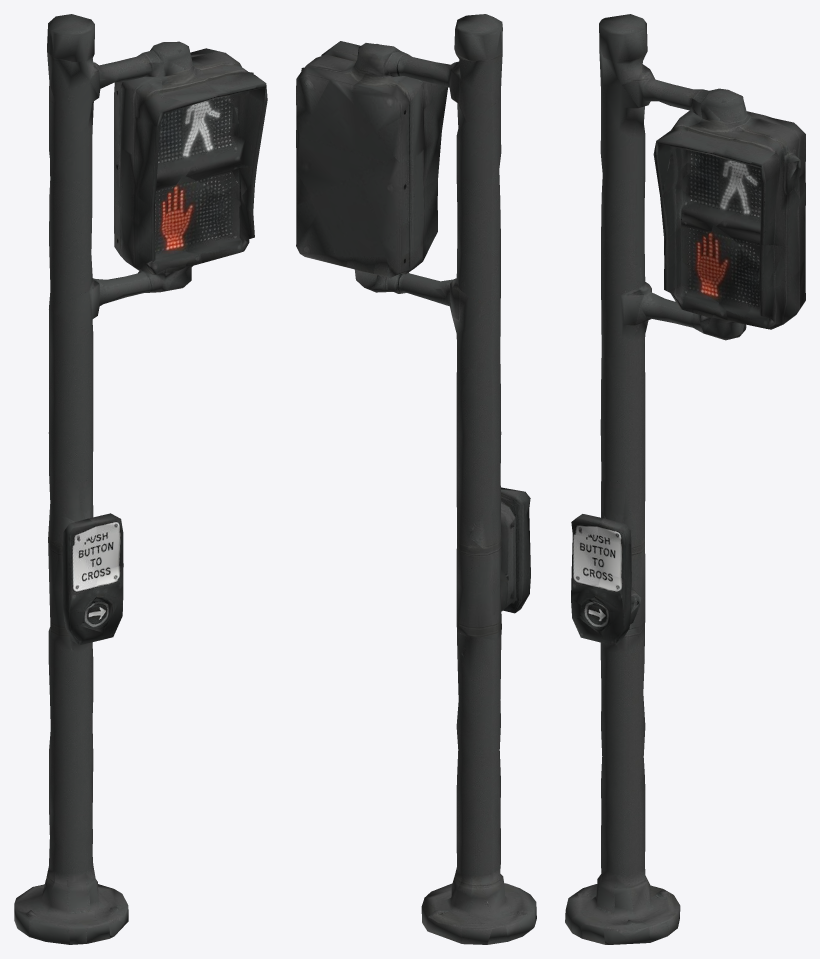
Rendered from psignal_lod1.glb.
The picture shows the model from 3 angles, left to right: view 1: azimuth 30°, elevation 25°; view 2: azimuth 150°, elevation 25°; view 3: azimuth 330°, elevation 25°; orthographic projection.
Visible parts, largest first — view 1: mesh_node; view 2: mesh_node; view 3: mesh_node.
Boxes of the visible parts, box(x1,y1,x2,y2) form: mesh_node: box(14, 14, 267, 944); mesh_node: box(296, 14, 536, 944); mesh_node: box(565, 14, 805, 944).
Bounding box in the file's own units: 0.5071 × 1.9 × 0.2175.
1 material, 1 textured.
